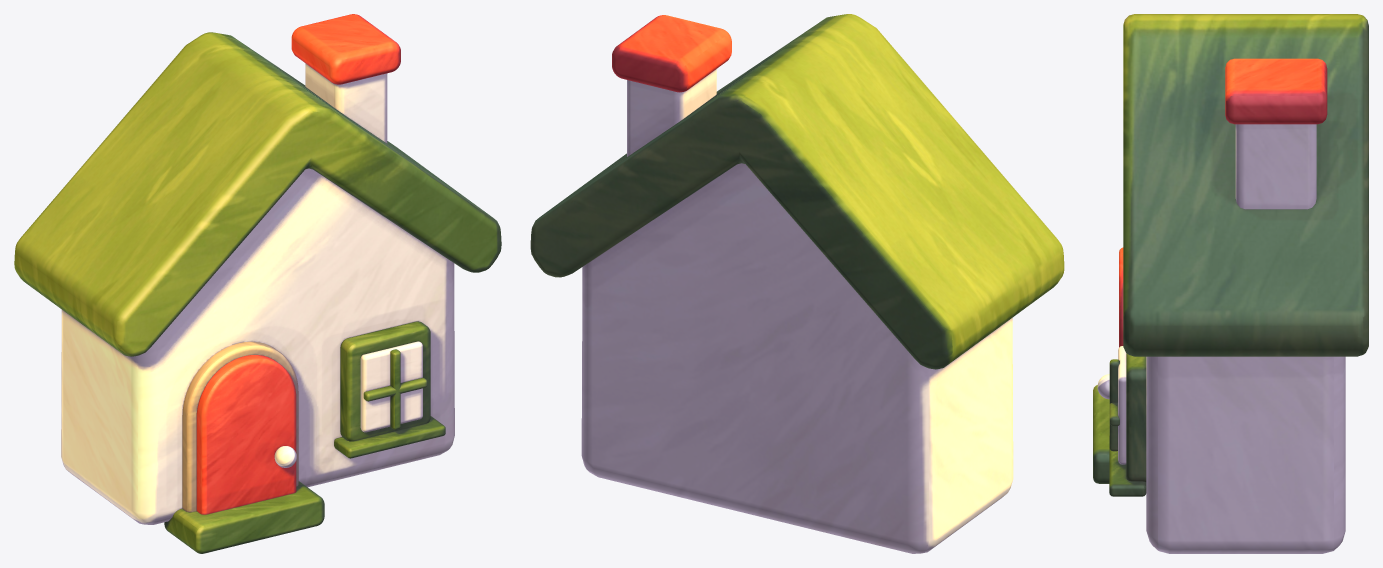
Rendered from home.glb.
The picture shows the model from 3 angles, left to right: view 1: azimuth 30°, elevation 25°; view 2: azimuth 150°, elevation 25°; view 3: azimuth 270°, elevation 25°; orthographic projection. The views are drawn at different scales.
Visible parts, largest first — view 1: Pitched olive roof, Cottage walls, Arched entry.001, Doorstep, Chimney cap, Window surround, Arched entry, Glazing, Chimney, Windowsill, Window muntin, Window muntin.001; view 2: Cottage walls, Pitched olive roof, Chimney cap, Chimney; view 3: Pitched olive roof, Cottage walls, Chimney, Chimney cap, Window surround, Doorstep, Windowsill, Glazing, Window muntin, Arched entry.001.
Boxes of the visible parts, bbox=[...] form: Pitched olive roof: bbox=[14, 32, 501, 356]; Cottage walls: bbox=[61, 168, 454, 524]; Arched entry.001: bbox=[196, 355, 296, 514]; Doorstep: bbox=[164, 481, 324, 553]; Chimney cap: bbox=[291, 14, 400, 84]; Window surround: bbox=[340, 321, 430, 441]; Arched entry: bbox=[182, 341, 298, 512]; Glazing: bbox=[360, 341, 422, 432]; Chimney: bbox=[305, 63, 387, 143]; Windowsill: bbox=[334, 416, 445, 458]; Window muntin: bbox=[390, 349, 400, 429]; Window muntin.001: bbox=[363, 377, 427, 401]; Cottage walls: bbox=[581, 163, 1013, 553]; Pitched olive roof: bbox=[530, 14, 1064, 369]; Chimney cap: bbox=[612, 15, 731, 92]; Chimney: bbox=[627, 69, 716, 156]; Pitched olive roof: bbox=[1123, 14, 1368, 356]; Cottage walls: bbox=[1146, 356, 1345, 553]; Chimney: bbox=[1235, 124, 1316, 209]; Chimney cap: bbox=[1225, 58, 1327, 124]; Window surround: bbox=[1126, 353, 1146, 481]; Doorstep: bbox=[1093, 385, 1109, 483]; Windowsill: bbox=[1109, 436, 1146, 496]; Glazing: bbox=[1118, 346, 1126, 464]; Window muntin: bbox=[1109, 359, 1119, 451]; Arched entry.001: bbox=[1119, 247, 1123, 347].
Size of the model in its own units: 2.22 by 2.23 by 1.19.
Materials: 5 (5 with a texture image).
